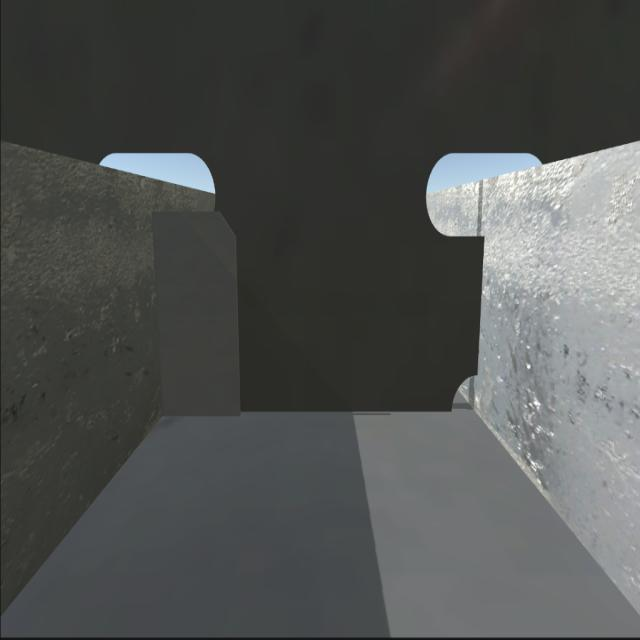fillet_hole: (442, 367, 488, 420)
fillet_yong_jeop_jang: (153, 394, 454, 421)
longi_yong_jeop_jang: (143, 202, 165, 419), (472, 230, 488, 377)
plate_CP03: (149, 209, 243, 419)
